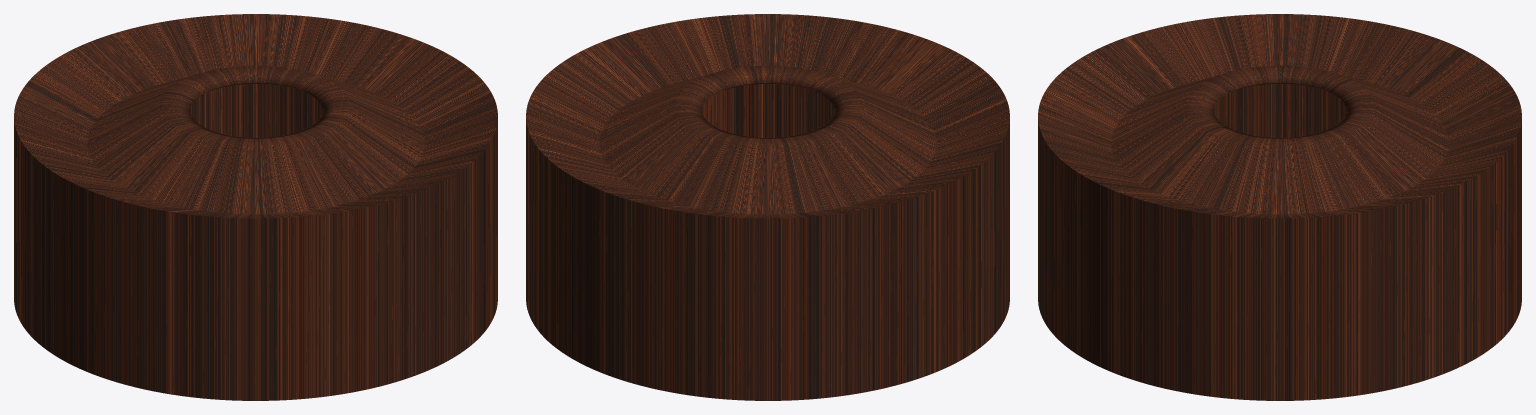
File: RouletteBorderNew.fbx
3 renders of one model, left to right at view 1: azimuth 30°, elevation 25°; view 2: azimuth 150°, elevation 25°; view 3: azimuth 270°, elevation 25°, orthographic.
Parts seen in each view (by area): view 1: Circle.003; view 2: Circle.003; view 3: Circle.003.
Part boxes in pixels (bbox=[...]): Circle.003: bbox=[14, 14, 497, 400]; Circle.003: bbox=[526, 14, 1009, 400]; Circle.003: bbox=[1038, 14, 1521, 400].
Size of the model in its own units: 593 by 261 by 593.
